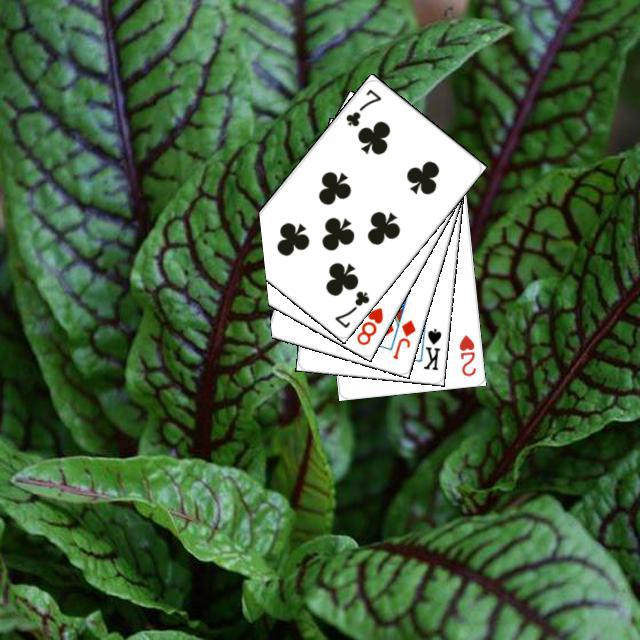2h: (454, 330, 478, 378)
7c: (340, 84, 383, 128), (330, 286, 371, 330)
8h: (351, 302, 385, 347)
Jd: (387, 315, 417, 361)
Ks: (419, 324, 443, 372)
